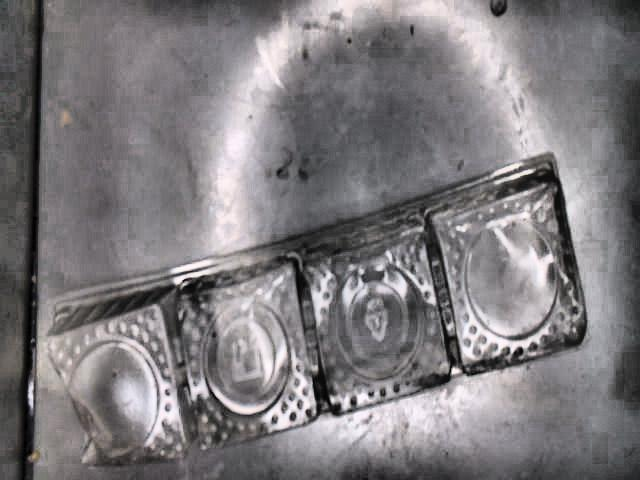Plastic: (44, 147, 589, 467)
